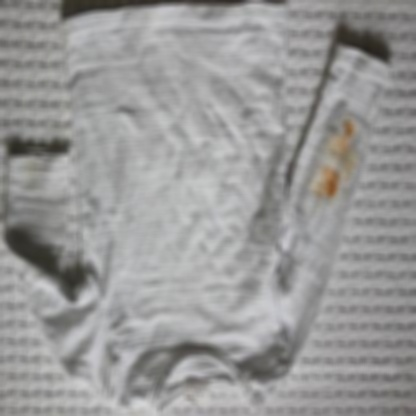kimchi: (310, 116, 365, 206), (320, 173, 342, 200), (345, 117, 363, 143)
